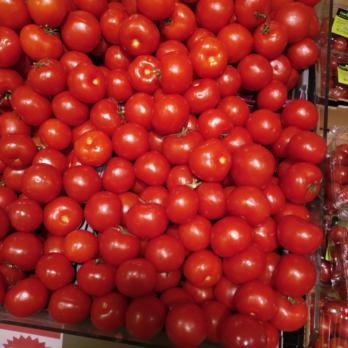Tomato: (4, 1, 318, 300)
